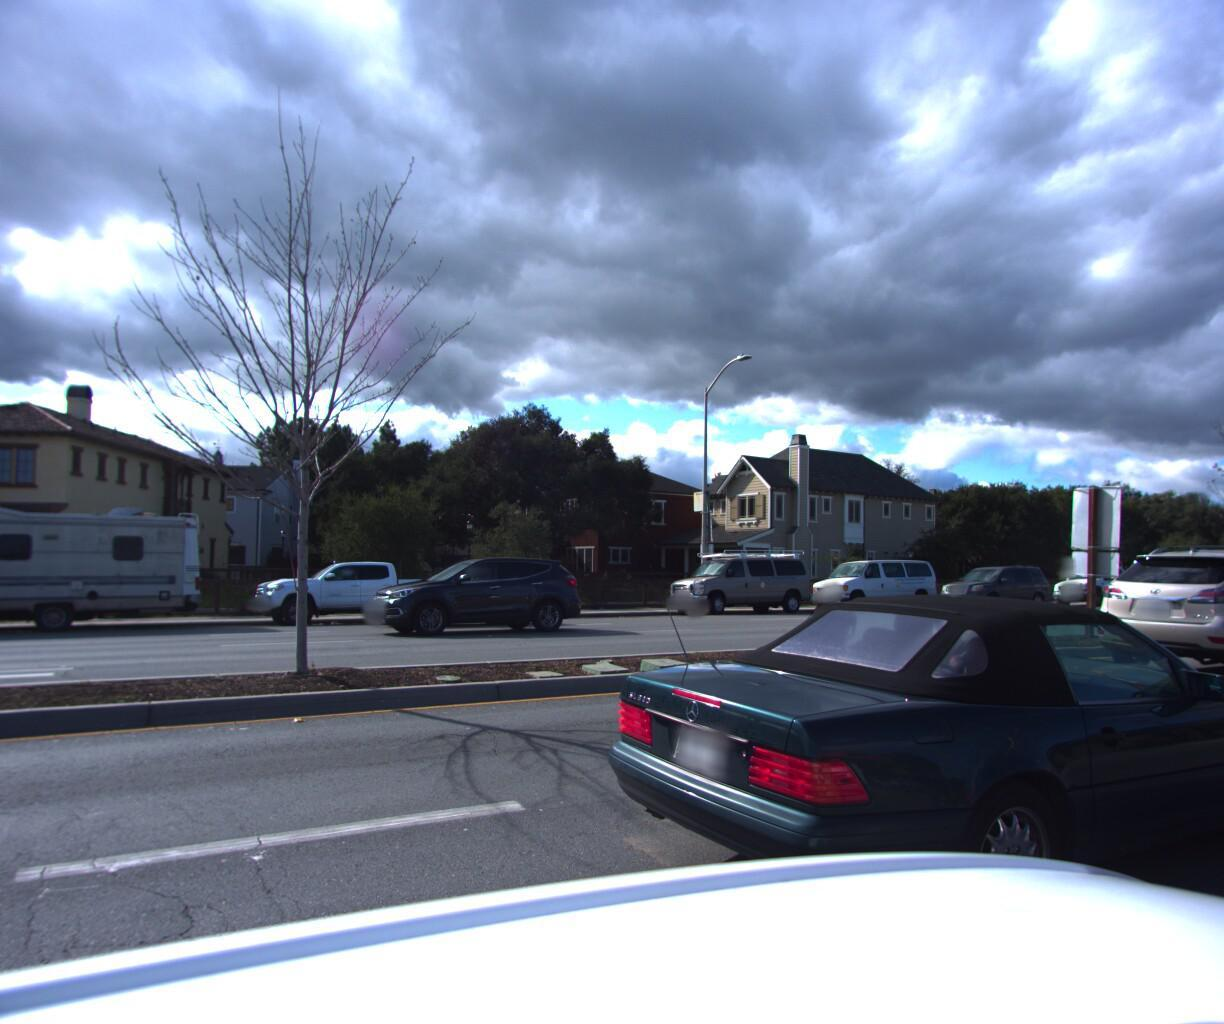car: (521, 566, 1224, 1014), (1073, 534, 1224, 687), (356, 541, 607, 631), (240, 549, 460, 624), (653, 539, 812, 607), (799, 546, 941, 609), (934, 559, 1062, 609), (1038, 558, 1148, 604)
other_vehicle: (0, 468, 210, 639)
